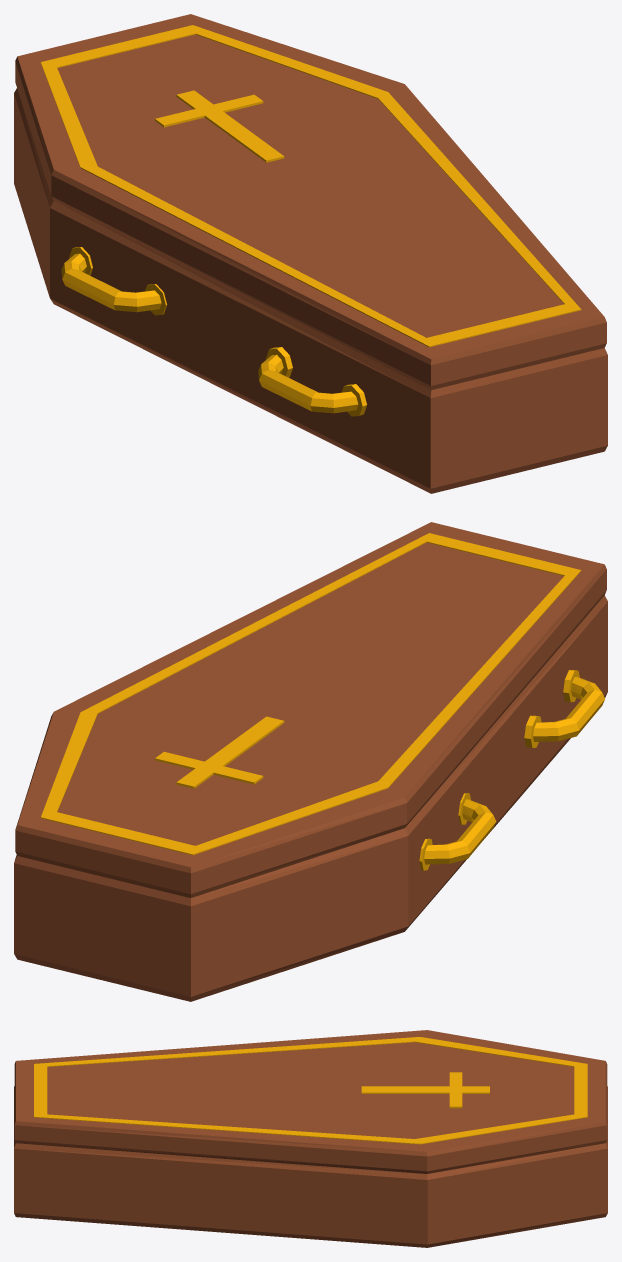
The model's file is midnightCoffin-ByWUNpc4.glb.
3 renders of one model, top to bottom at view 1: azimuth 30°, elevation 25°; view 2: azimuth 150°, elevation 25°; view 3: azimuth 270°, elevation 25°, orthographic. The views are drawn at different scales.
Visible parts, largest first — view 1: midnightCoffin:Node; view 2: midnightCoffin:Node; view 3: midnightCoffin:Node.
Boxes of the visible parts, x1,y1,x2,y2 form: midnightCoffin:Node: (14,14,607,493); midnightCoffin:Node: (14,522,607,1001); midnightCoffin:Node: (14,1030,607,1247).
Bounding box in the file's own units: 1.58 × 0.5399 × 2.98.
